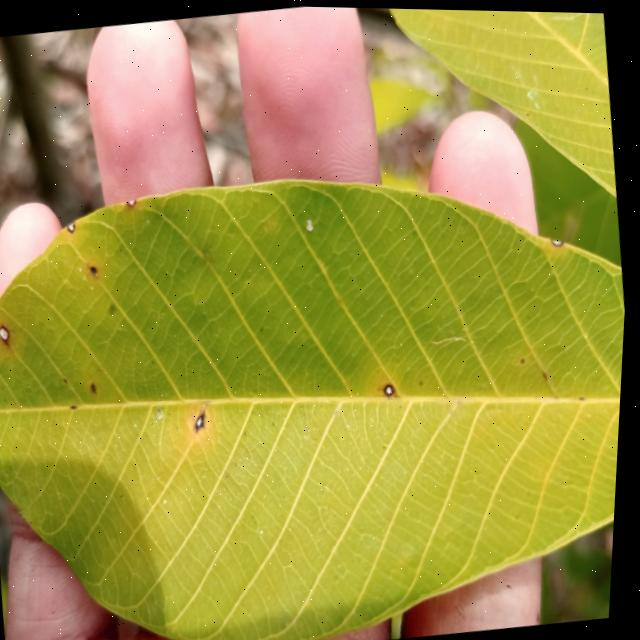Colletotrichum: (0, 324, 13, 341), (197, 412, 209, 429), (386, 382, 397, 395), (68, 222, 78, 233), (91, 264, 99, 273)
